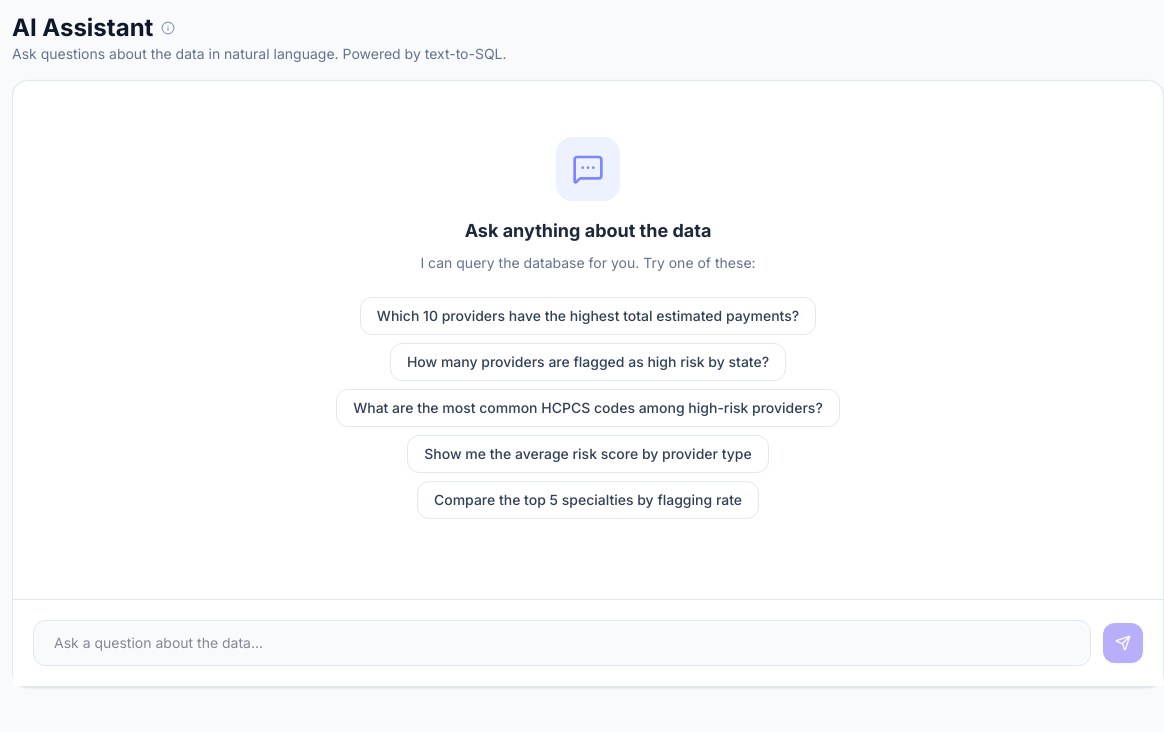
Test case: Analytics › sends a suggestion and renders the response content
The width and height of the screenshot is (1164, 732).
Click the button "How many providers are flagged as high risk by state?".
click(588, 362)  # box [390,343,786,381]
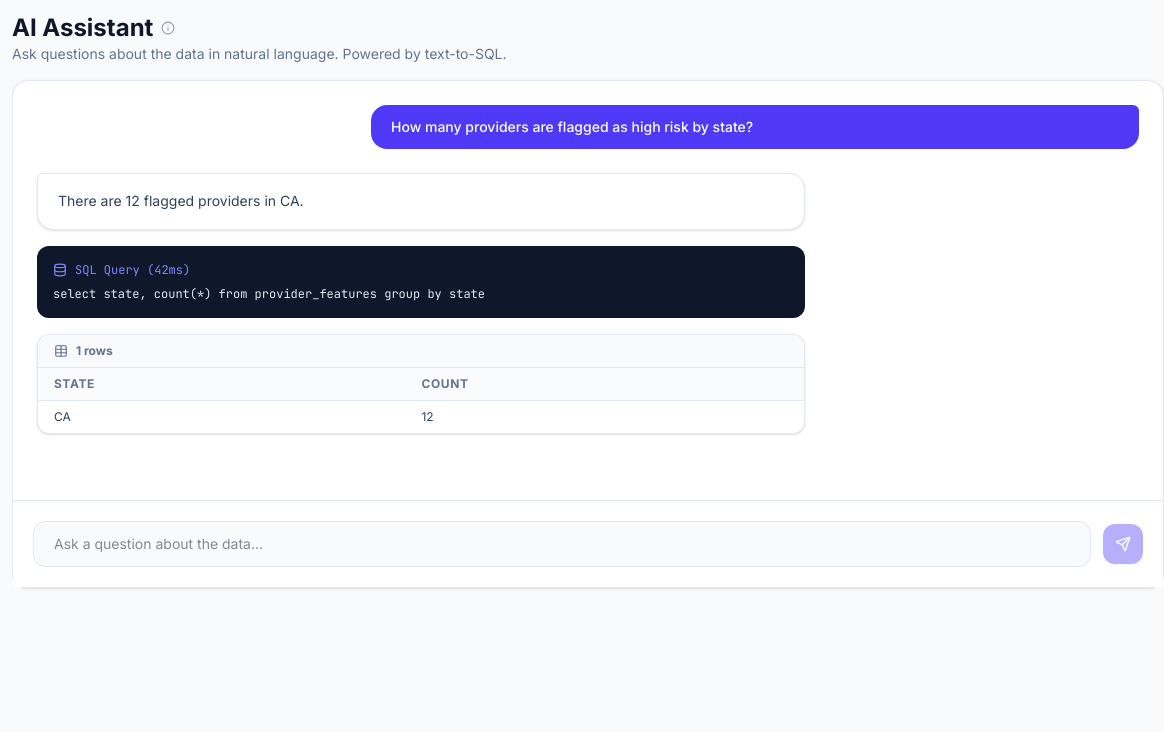
Check: the text "There are 12 flagged providers in CA." is shown, box [58,192,304,209]
Check: the text "SQL Query (42ms)" is shown, box [53,262,190,278]
Check: the text "1 rows" is shown, box [38,335,804,368]
